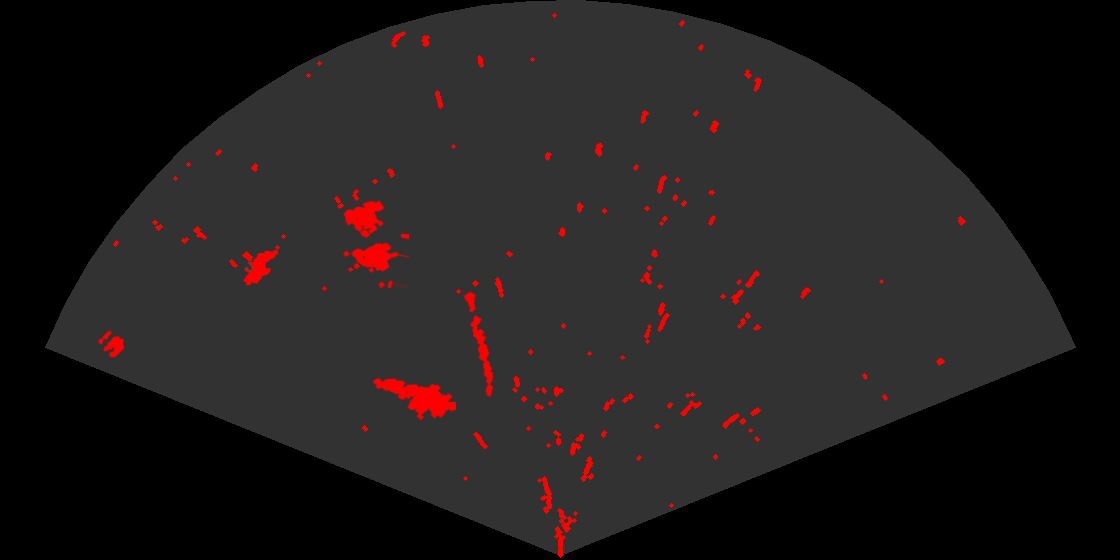AUV: (242, 248, 280, 287)
ball: (96, 329, 126, 359)
cage: (341, 199, 409, 288)
chain: (462, 289, 495, 399)
frogman: (371, 376, 456, 422)
